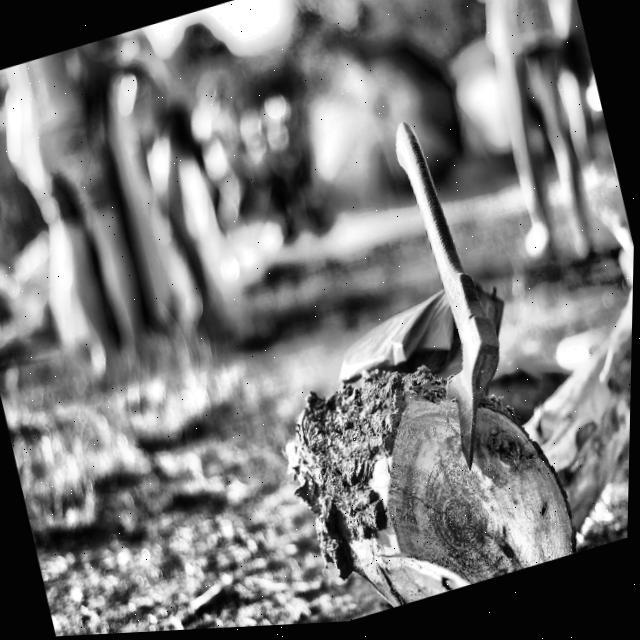kapak: (390, 113, 505, 479)
